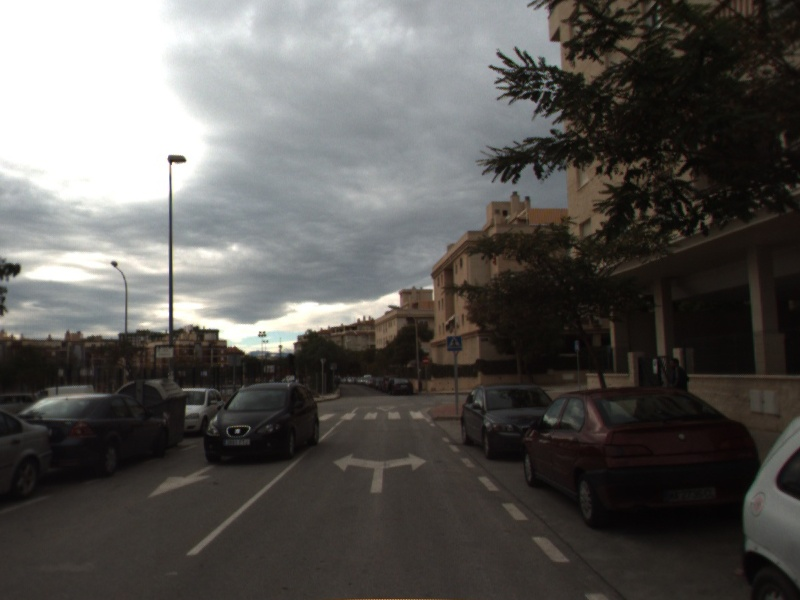LEFT_RIGHT: (331, 450, 429, 495)
